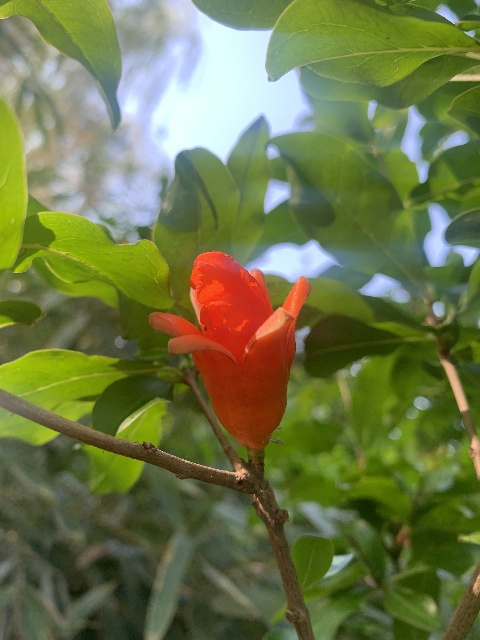flower: (148, 250, 311, 450)
